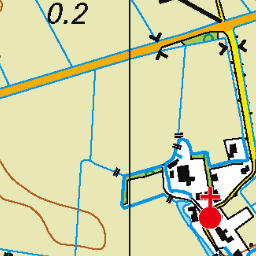church: (193, 184, 224, 233)
